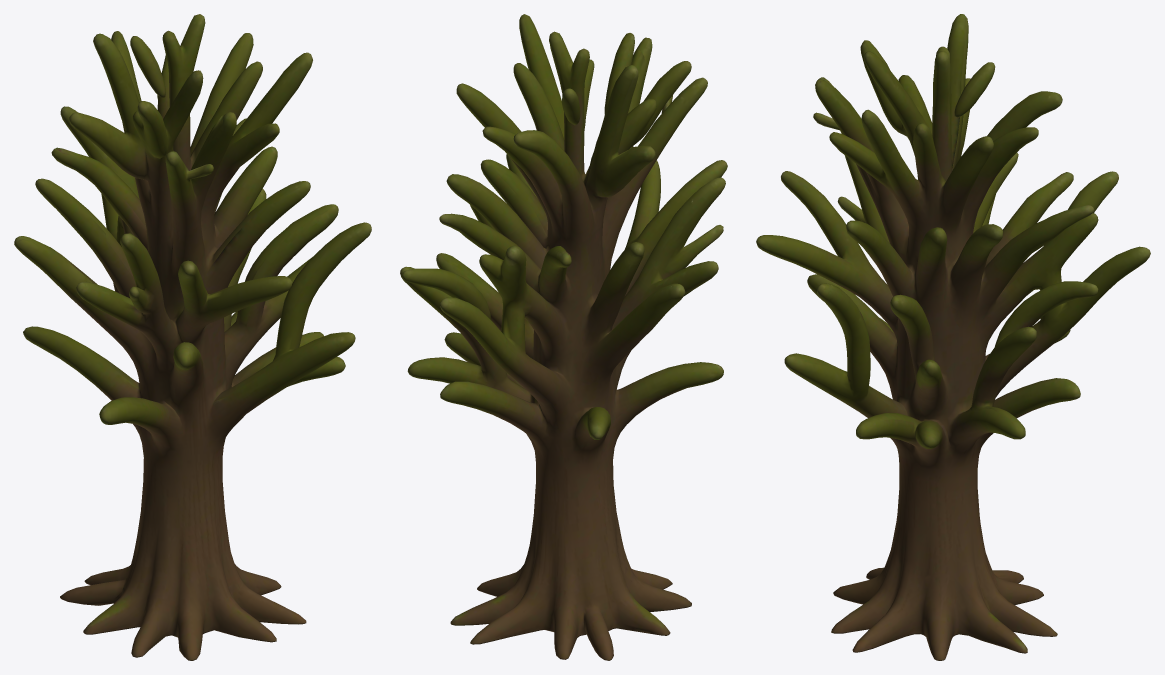
The model's file is Nature__a_large_oak_tree_b595aa57_v2.cluster.glb.
3 renders of one model, left to right at view 1: azimuth 30°, elevation 25°; view 2: azimuth 150°, elevation 25°; view 3: azimuth 270°, elevation 25°, orthographic. The views are drawn at different scales.
Visible parts, largest first — view 1: material; view 2: material; view 3: material.
Part boxes in pixels (box(x1,y1,x2,y2)): material: box(14, 14, 371, 660); material: box(400, 14, 727, 660); material: box(756, 14, 1150, 660).
Size of the model in its own units: 0.9607 by 1.9 by 1.19.
Materials: 1 (1 with a texture image).
